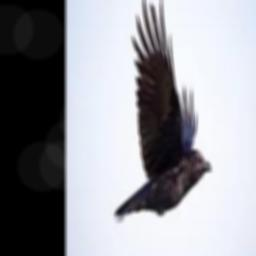Crow: (115, 0, 212, 220)
